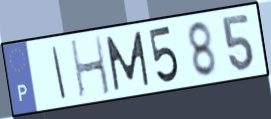5: (219, 12, 256, 73), (147, 24, 180, 85)
8: (186, 19, 218, 80)
H: (68, 33, 113, 100)
I: (50, 45, 69, 101)
M: (104, 28, 152, 93)
